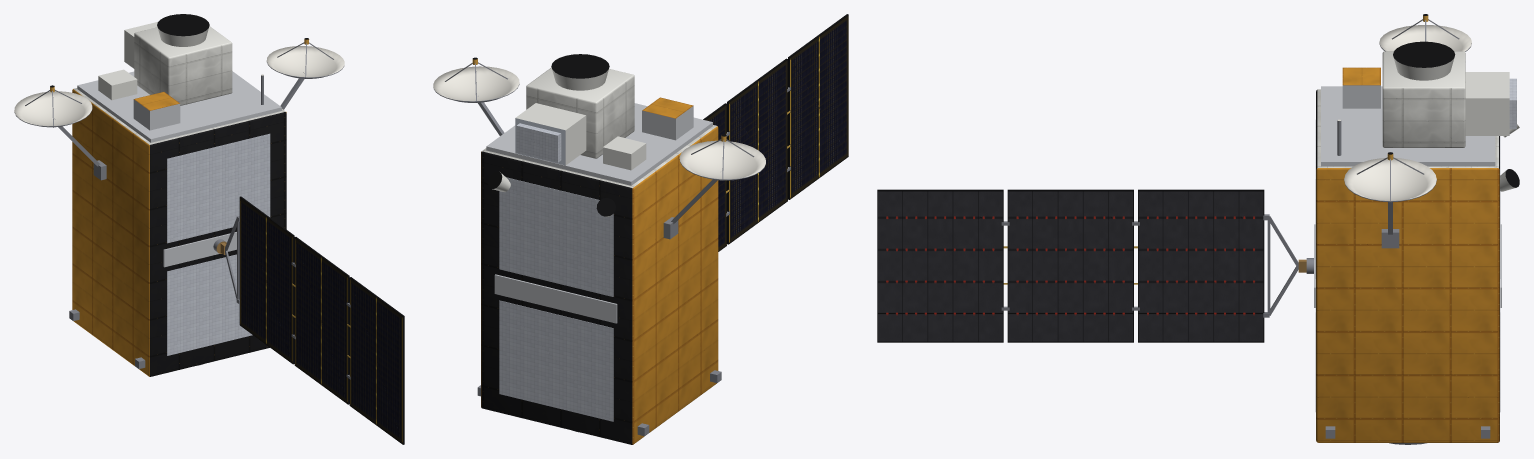
File: himawari-9.glb
3 views of the same model, side by side, from view 1: azimuth 30°, elevation 25°; view 2: azimuth 150°, elevation 25°; view 3: azimuth 270°, elevation 25° (orthographic). The views are drawn at different scales.
Visible parts, largest first — view 1: bus, wing-Y, nadir_payload, reflectors; view 2: bus, wing-Y, nadir_payload, reflectors; view 3: wing-Y, bus, nadir_payload, reflectors.
Boxes of the visible parts, x1=… form: bus: x1=69, y1=88, x2=286, y2=376; wing-Y: x1=220, y1=196, x2=404, y2=444; nadir_payload: x1=77, y1=14, x2=281, y2=142; reflectors: x1=14, y1=38, x2=344, y2=180; bus: x1=477, y1=125, x2=721, y2=444; wing-Y: x1=703, y1=14, x2=848, y2=251; nadir_payload: x1=486, y1=54, x2=712, y2=185; reflectors: x1=433, y1=57, x2=765, y2=239; wing-Y: x1=877, y1=189, x2=1306, y2=342; bus: x1=1314, y1=89, x2=1519, y2=444; nadir_payload: x1=1321, y1=41, x2=1516, y2=166; reflectors: x1=1344, y1=14, x2=1471, y2=248.
Size of the model in its own units: 5.22 by 5.3 by 8.04.
Materials: 16 (6 with a texture image).
